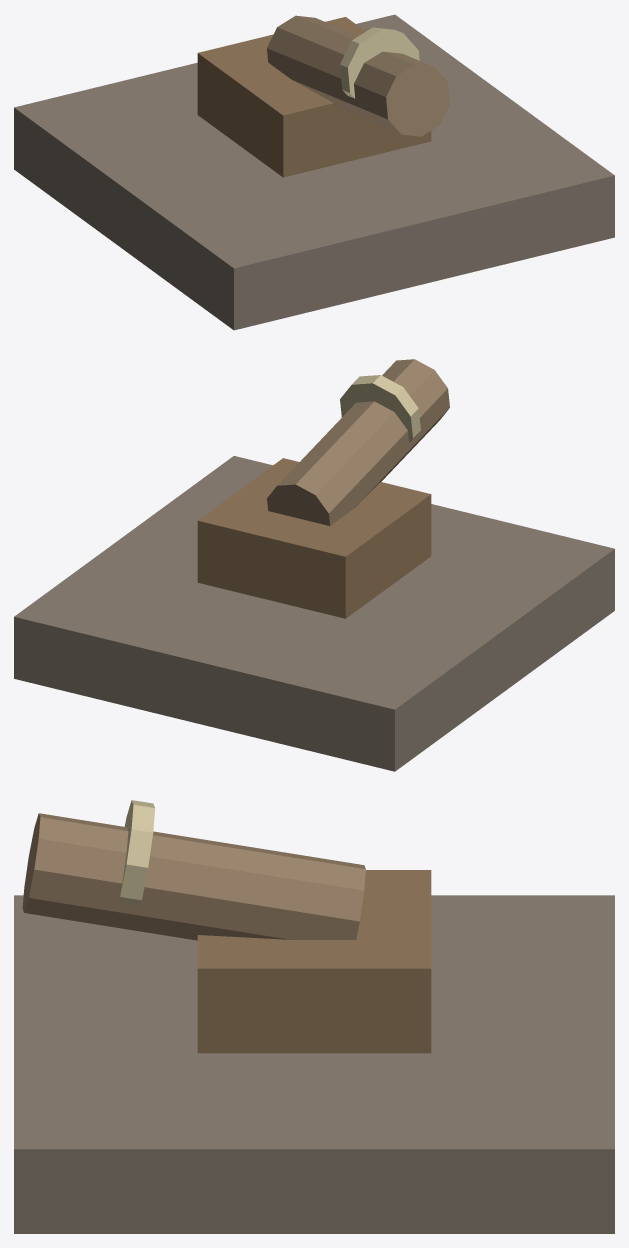
File: human_ballista.glb
3 views of the same model, one above another, from view 1: azimuth 30°, elevation 25°; view 2: azimuth 150°, elevation 25°; view 3: azimuth 270°, elevation 25° (orthographic). The views are drawn at different scales.
Parts seen in each view (by area): view 1: Base, Mount, BarrelPivotMesh; view 2: Base, Mount, BarrelPivotMesh; view 3: Base, BarrelPivotMesh, Mount.
Boxes of the visible parts, box(x1,y1,x2,y2) form: Base: box(14, 14, 614, 330); Mount: box(197, 17, 431, 177); BarrelPivotMesh: box(267, 15, 449, 136); Base: box(14, 456, 614, 771); Mount: box(197, 458, 431, 618); BarrelPivotMesh: box(267, 359, 449, 525); Base: box(14, 895, 614, 1233); BarrelPivotMesh: box(22, 800, 365, 940); Mount: box(197, 870, 431, 1053).
Bounding box in the file's own units: 1.8 × 0.9991 × 1.8.
